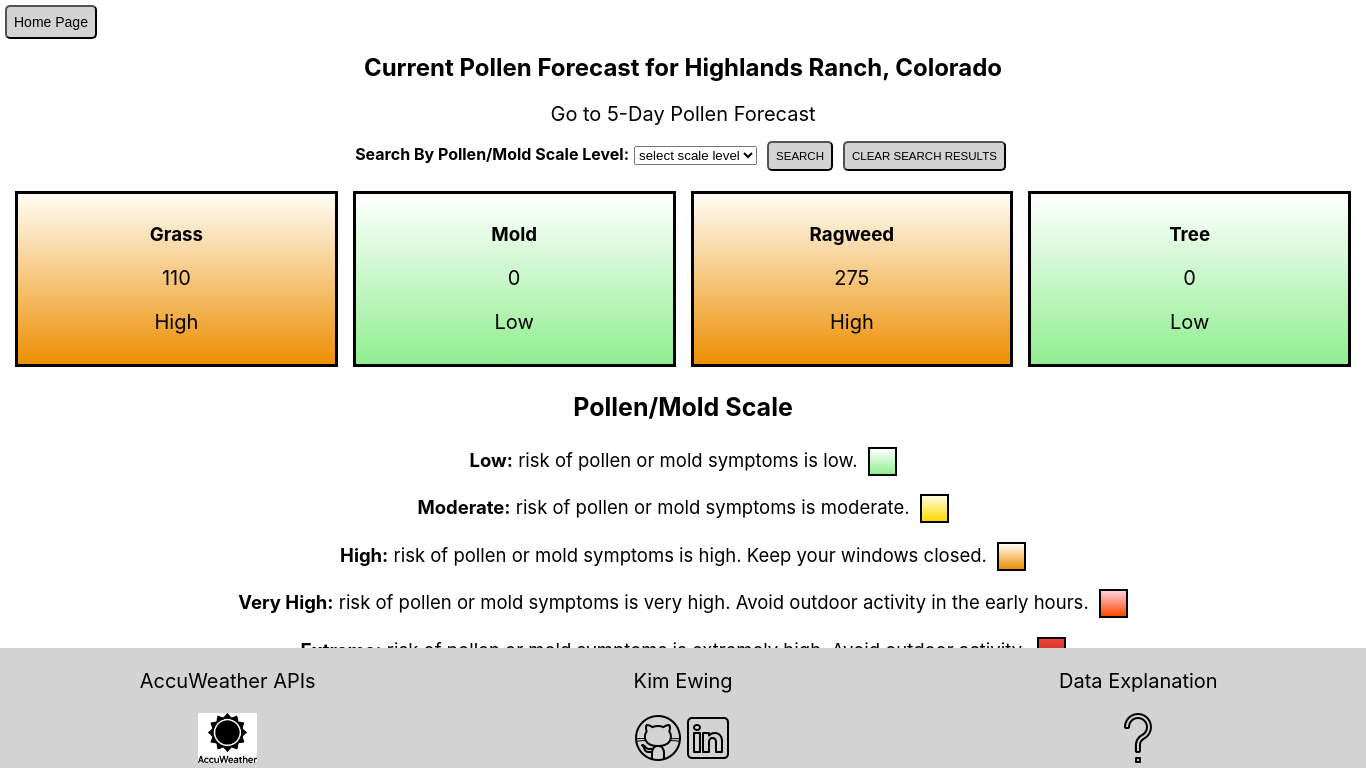
Current Pollen Forecast Page Tests › should select a pollen/mold scale value in the drop down and hit submit, returning any pollen forecasts that match the search criteria
Select "Low" in the dropdown with class "drop-down". click: (696, 156)
box: [634, 146, 757, 165]
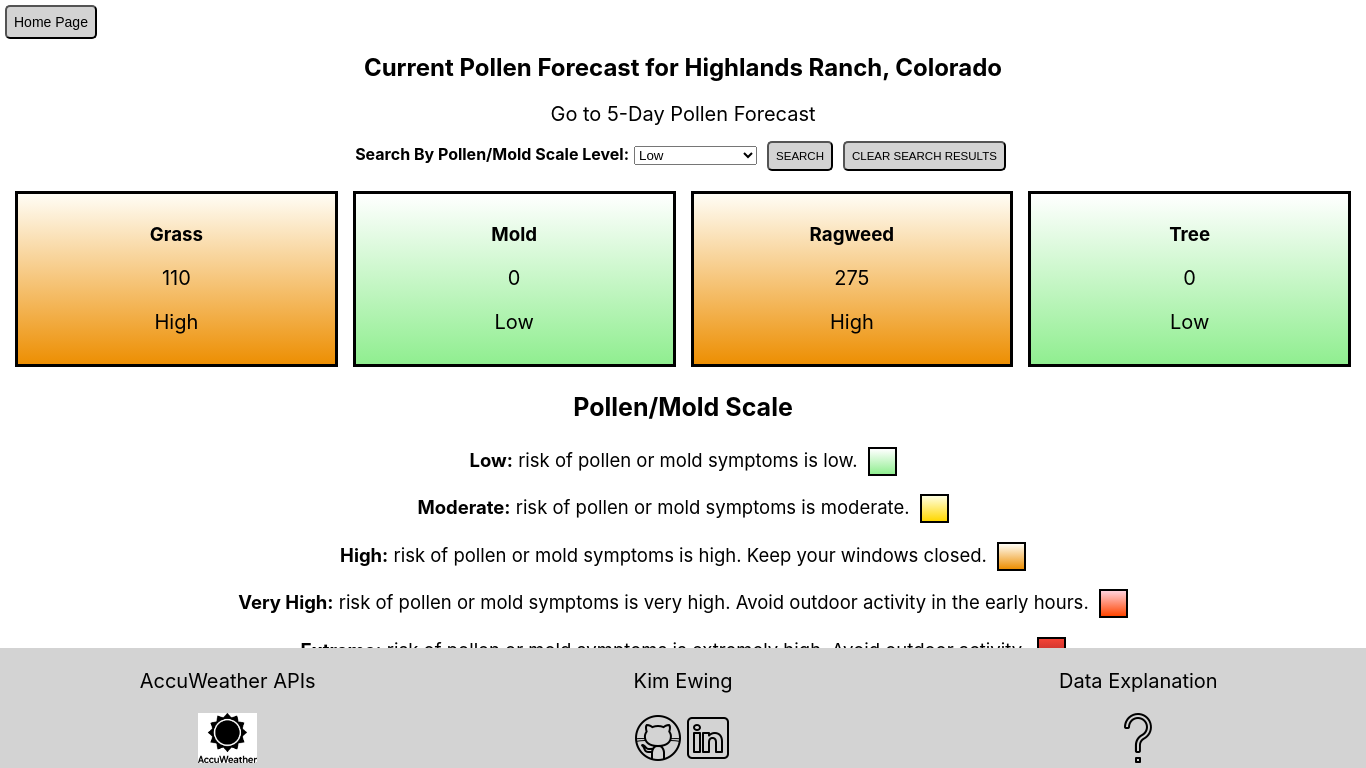
Click the button with class "search-button". click: (800, 156)
box: [767, 141, 833, 171]
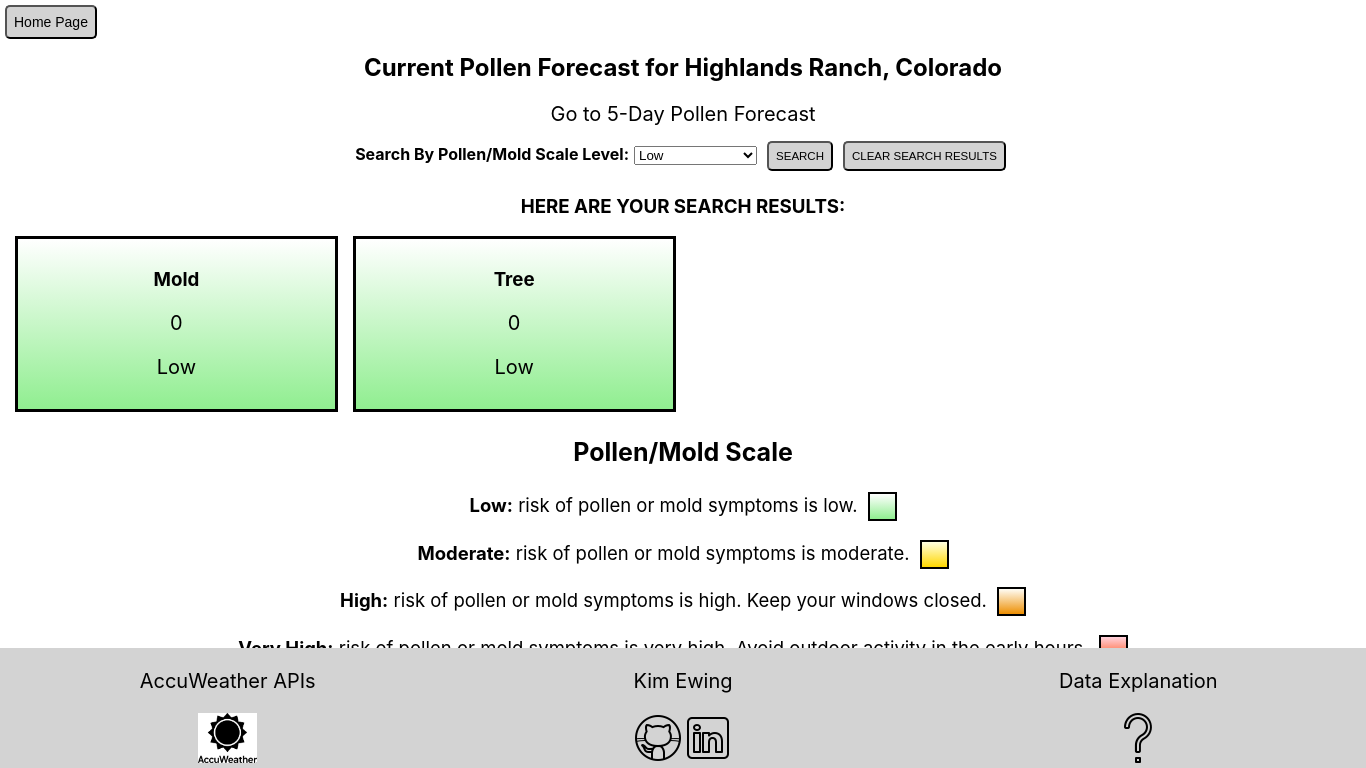
Expected: the heading "Mold" is shown, [154, 268, 199, 291]
Now the number of elements with class "search-result-pollen-forecast-card-current-forecast" is 2, box [15, 236, 338, 412]; [353, 236, 676, 412]
